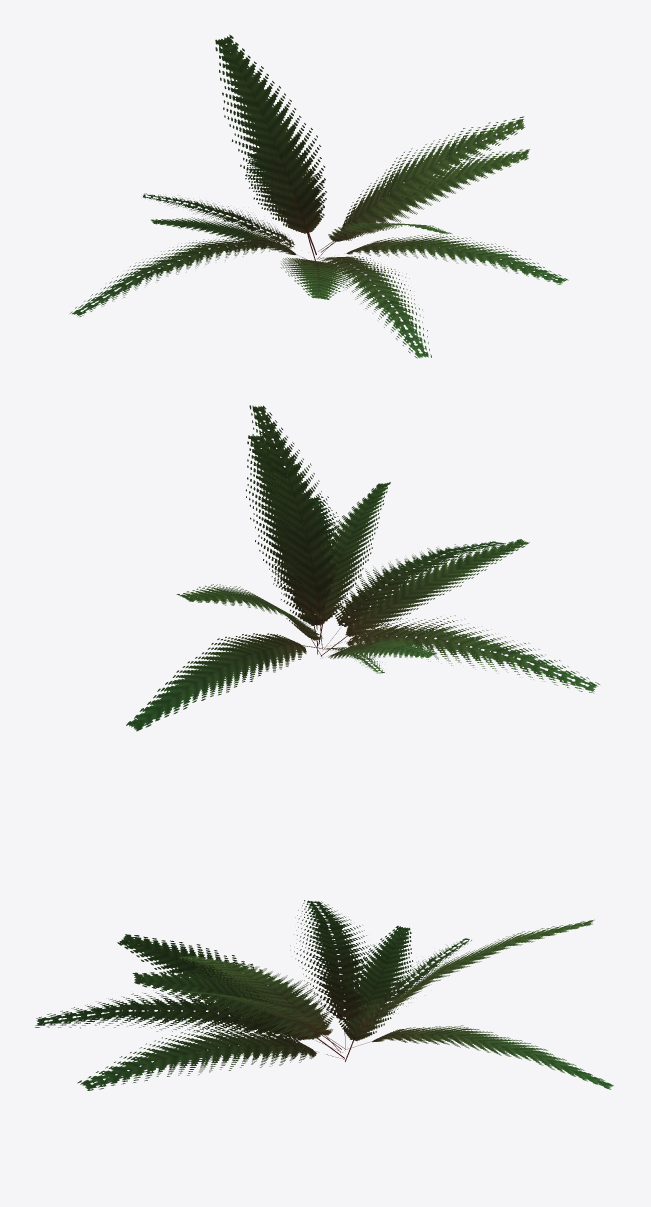
Rendered from shida.glb.
3 renders of one model, top to bottom at view 1: azimuth 30°, elevation 25°; view 2: azimuth 150°, elevation 25°; view 3: azimuth 270°, elevation 25°, orthographic. The views are drawn at different scales.
Parts seen in each view (by area): view 1: v0_lod0, v1_lod0, v2_lod0; view 2: v1_lod0, v0_lod0, v2_lod0; view 3: v1_lod0, v0_lod0, v2_lod0.
Boxes of the visible parts, x1,y1,x2,y2 form: v0_lod0: (151,34,524,260); v1_lod0: (70,149,529,358); v2_lod0: (321,222,568,284); v1_lod0: (245,435,599,693); v0_lod0: (126,405,437,731); v2_lod0: (269,482,390,654); v1_lod0: (35,900,471,1058); v0_lod0: (179,919,613,1089); v2_lod0: (77,970,344,1090).
Size of what is drawn, in the model's own units: 2.19 by 0.7754 by 2.
1 material, 1 textured.
